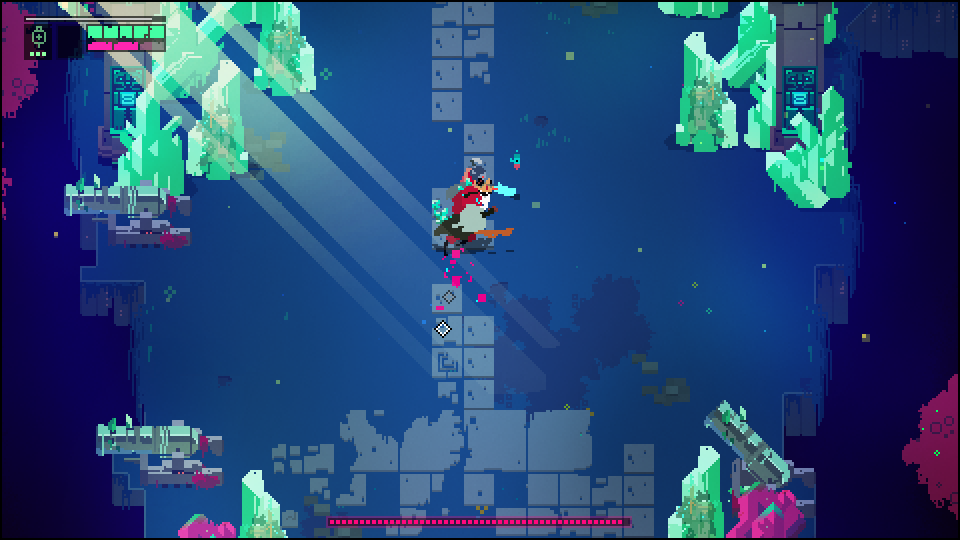hanged_man: (442, 176, 516, 268)
